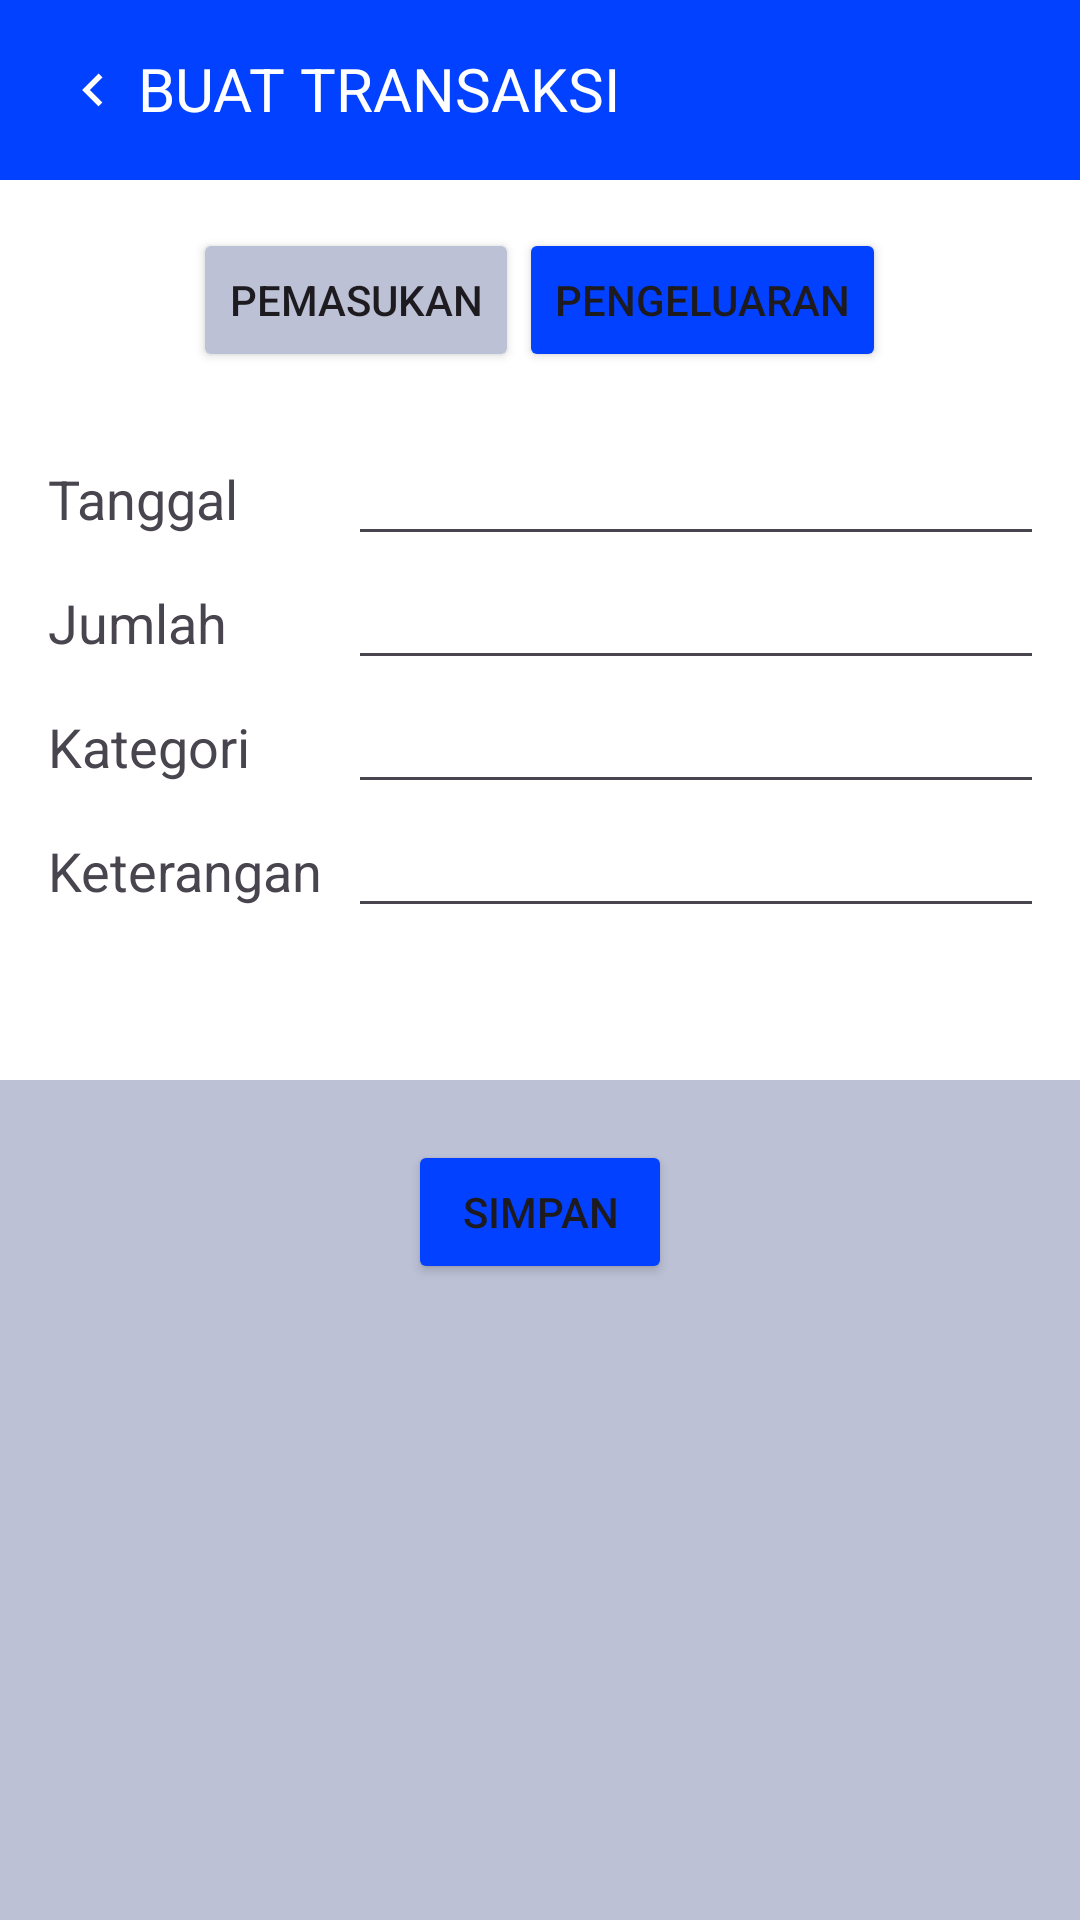

Where to tap for icons on this 1080×1920 app screen, as (x,y):
kiri: (92,90)
